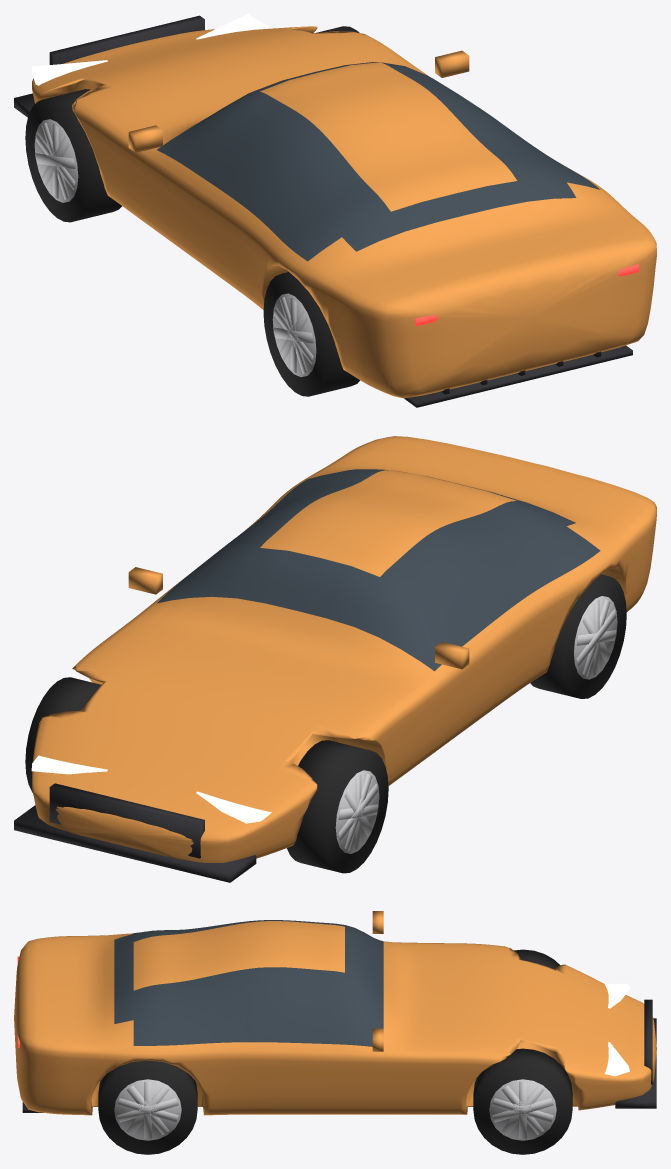
Rendered from aurora_gt.glb.
3 renders of one model, top to bottom at view 1: azimuth 30°, elevation 25°; view 2: azimuth 150°, elevation 25°; view 3: azimuth 270°, elevation 25°, orthographic. The views are drawn at different scales.
Visible parts, largest first — view 1: Body, Wheel_FL, Wheel_RL; view 2: Body, Wheel_FL, Wheel_RL, Wheel_FR; view 3: Body, Wheel_FR, Wheel_RR, Wheel_FL.
Boxes of the visible parts, x1,y1,x2,y2 form: Body: [14, 14, 656, 407]; Wheel_FL: [25, 89, 121, 222]; Wheel_RL: [263, 272, 359, 396]; Body: [14, 436, 656, 882]; Wheel_FL: [287, 740, 388, 873]; Wheel_RL: [530, 574, 626, 698]; Wheel_FR: [25, 677, 101, 792]; Body: [14, 911, 656, 1115]; Wheel_FR: [473, 1048, 572, 1154]; Wheel_RR: [98, 1060, 197, 1154]; Wheel_FL: [514, 949, 560, 969].
Size of the model in its own units: 2.2 by 1.26 by 4.66.
